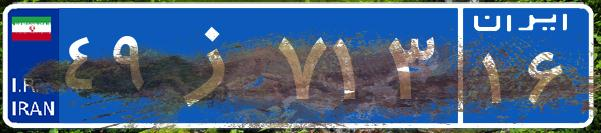1: (330, 28, 385, 110), (475, 38, 525, 113)
3: (385, 28, 445, 110)
4: (57, 26, 110, 107)
6: (525, 38, 570, 115)
7: (273, 28, 330, 110)
9: (110, 28, 158, 105)
ز: (158, 15, 273, 115)
